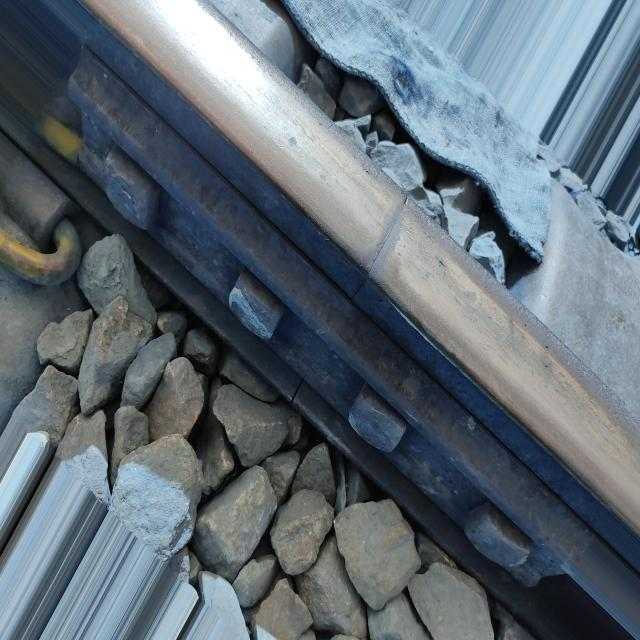Good Fasteners: (0, 81, 85, 284)
Good Joint: (63, 47, 602, 590)
